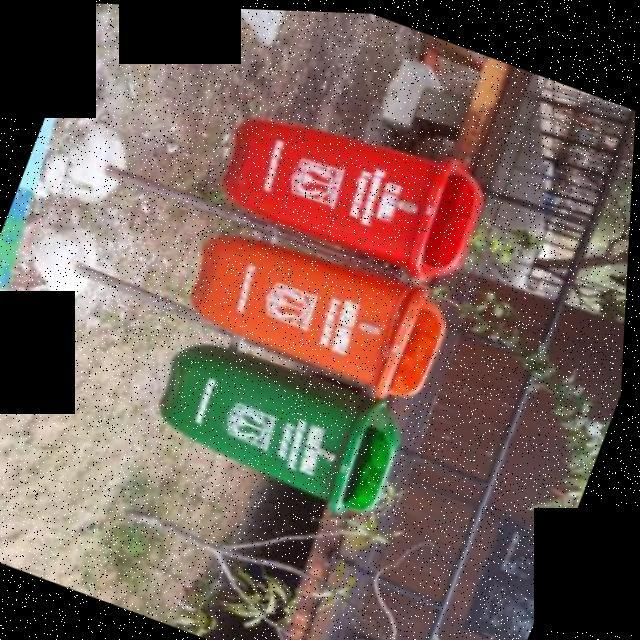bin: (182, 70, 516, 299), (160, 198, 479, 416), (140, 322, 426, 531)
